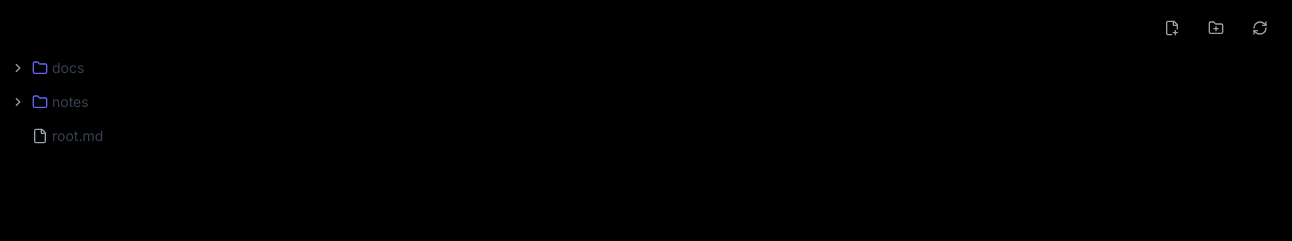
FileTree › create file › shows validation error for invalid filename
This screenshot has width=1292, height=241.
Click the button titled "新建文件": click(1172, 28) [1152,12,1192,44]
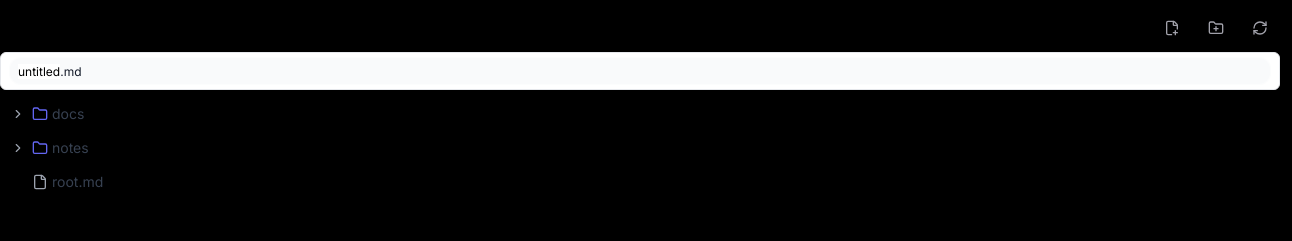
Replace the text in the field with "bad/file.md": (640, 71) [9,57,1271,85]
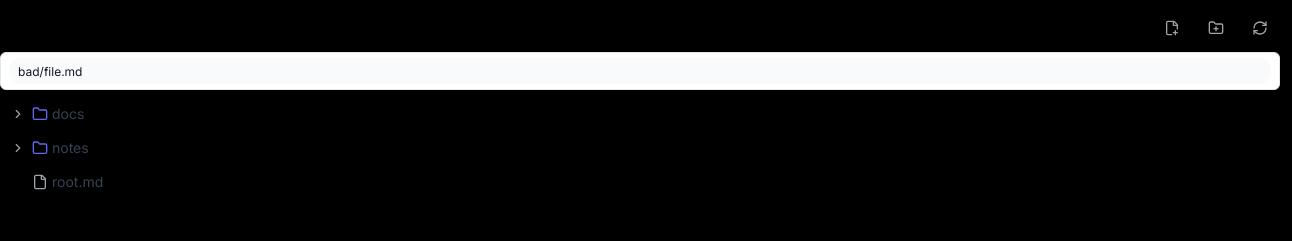
Press Enter in the field, box [9,57,1271,85]
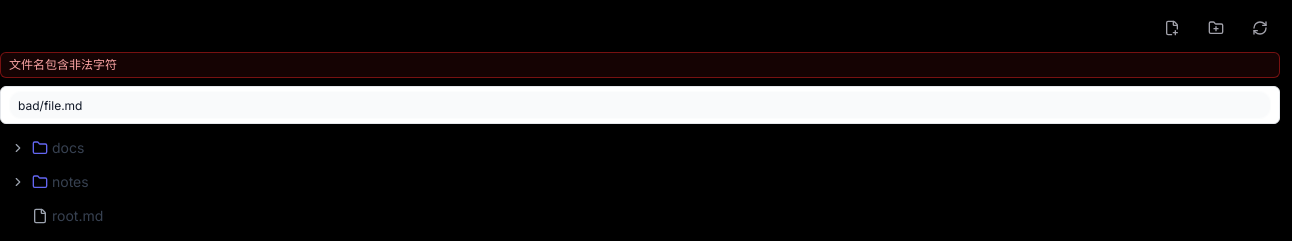
Check: the text "文件名包含非法字符" is shown, box [0,52,1280,78]
